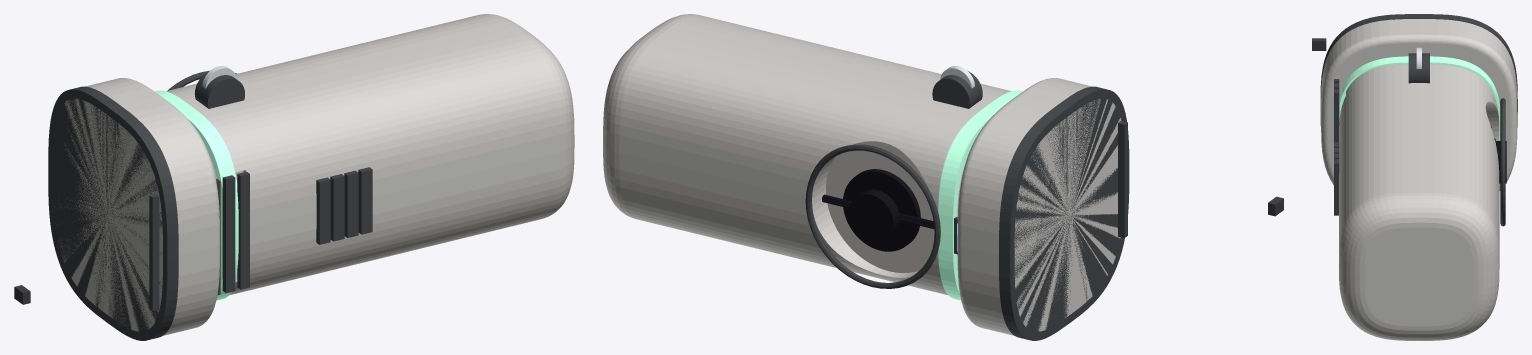
The picture shows the model from 3 angles, left to right: view 1: azimuth 30°, elevation 25°; view 2: azimuth 150°, elevation 25°; view 3: azimuth 270°, elevation 25°; orthographic projection. The views are drawn at different scales.
Parts seen in each view (by area): view 1: Tower, Base, BaseRing, Band, IntakeBar_5, IntakeBar_6, Knob, IntakeBar_0, HotVentBar_0, HotVentBar_3, HotVentBar_1, HotVentBar_2; view 2: Tower, Base, BaseRing, Band, GrilleRing, GrilleBack, GrilleHub, Knob, IntakeBar_0; view 3: Tower, Base, Band, BaseRing, GrilleRing, Knob, IntakeBar_6, HotVentBar_3, GrilleHub, TypeC.
Part boxes in pixels (x1=…): Tower: x1=166, y1=14, x2=574, y2=295; Base: x1=53, y1=78, x2=219, y2=335; BaseRing: x1=48, y1=86, x2=178, y2=340; Band: x1=155, y1=90, x2=238, y2=300; IntakeBar_5: x1=222, y1=175, x2=235, y2=293; IntakeBar_6: x1=237, y1=171, x2=249, y2=289; Knob: x1=194, y1=71, x2=244, y2=108; IntakeBar_0: x1=149, y1=194, x2=159, y2=310; HotVentBar_0: x1=316, y1=177, x2=330, y2=244; HotVentBar_3: x1=358, y1=167, x2=372, y2=234; HotVentBar_1: x1=330, y1=174, x2=344, y2=241; HotVentBar_2: x1=344, y1=170, x2=358, y2=237; Tower: x1=603, y1=14, x2=1011, y2=294; Base: x1=957, y1=78, x2=1121, y2=335; BaseRing: x1=999, y1=86, x2=1129, y2=340; Band: x1=938, y1=90, x2=1022, y2=300; GrilleRing: x1=805, y1=144, x2=940, y2=288; GrilleBack: x1=843, y1=169, x2=920, y2=251; GrilleHub: x1=848, y1=189, x2=899, y2=242; Knob: x1=932, y1=71, x2=982, y2=108; IntakeBar_0: x1=1118, y1=121, x2=1127, y2=237; Tower: x1=1339, y1=64, x2=1499, y2=340; Base: x1=1321, y1=19, x2=1517, y2=190; Band: x1=1339, y1=56, x2=1500, y2=140; BaseRing: x1=1320, y1=14, x2=1517, y2=127; GrilleRing: x1=1500, y1=98, x2=1505, y2=226; Knob: x1=1408, y1=53, x2=1429, y2=83; IntakeBar_6: x1=1334, y1=89, x2=1339, y2=142; HotVentBar_3: x1=1334, y1=159, x2=1339, y2=215; GrilleHub: x1=1496, y1=141, x2=1506, y2=183; TypeC: x1=1312, y1=38, x2=1326, y2=50.
Bounding box in the file's own units: 0.31 × 0.1168 × 0.1153.
